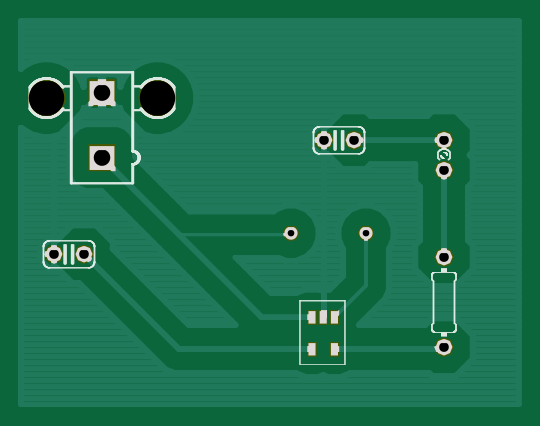LED: (434, 131, 452, 180)
capacitance: (312, 124, 365, 155), (41, 240, 95, 269)
power_supply: (27, 71, 178, 188)
regulation: (299, 299, 346, 366)
resistance: (432, 249, 458, 355)
